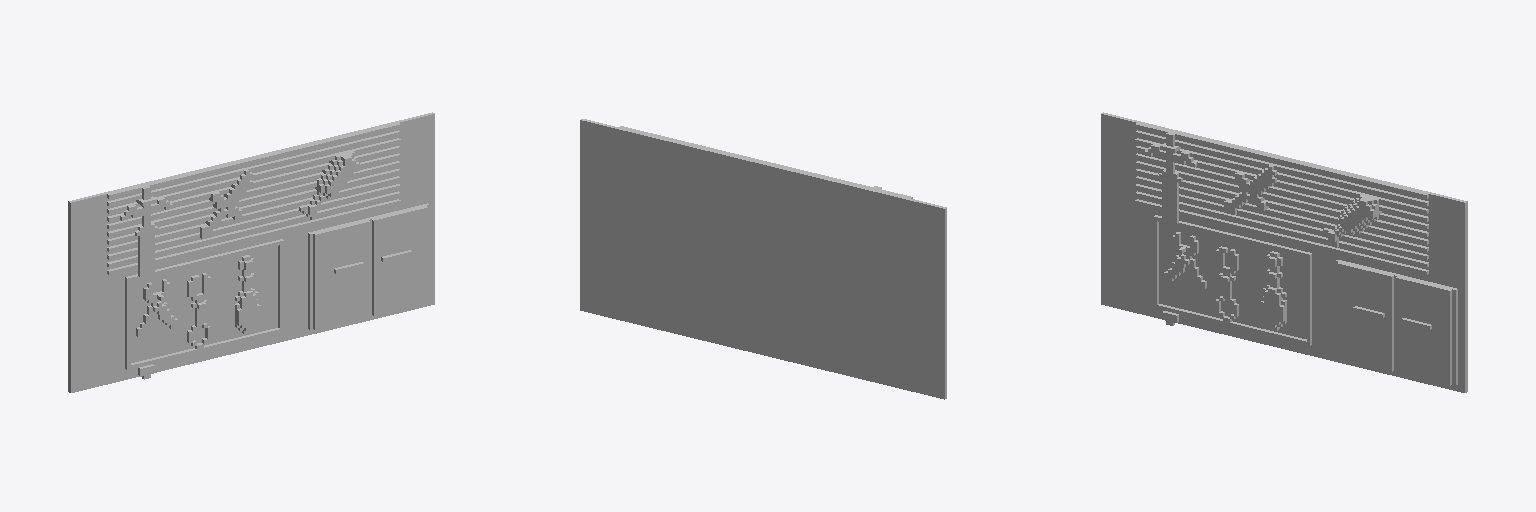
File: Parede 1.obj
3 renders of one model, left to right at view 1: azimuth 30°, elevation 25°; view 2: azimuth 150°, elevation 25°; view 3: azimuth 330°, elevation 25°, orthographic.
Parts seen in each view (by area): view 1: object 1; view 2: object 1; view 3: object 1.
Boxes of the visible parts, x1=… form: object 1: x1=68, y1=112, x2=434, y2=392; object 1: x1=580, y1=119, x2=946, y2=399; object 1: x1=1101, y1=112, x2=1467, y2=392.
Bounding box in the file's own units: 10 × 5 × 0.5.